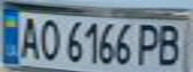1: (81, 19, 100, 64)
6: (112, 20, 139, 66), (97, 20, 118, 66), (63, 18, 84, 64)
A: (15, 14, 42, 61)
B: (154, 21, 187, 68)
O: (36, 17, 63, 62)
P: (133, 20, 163, 68)
